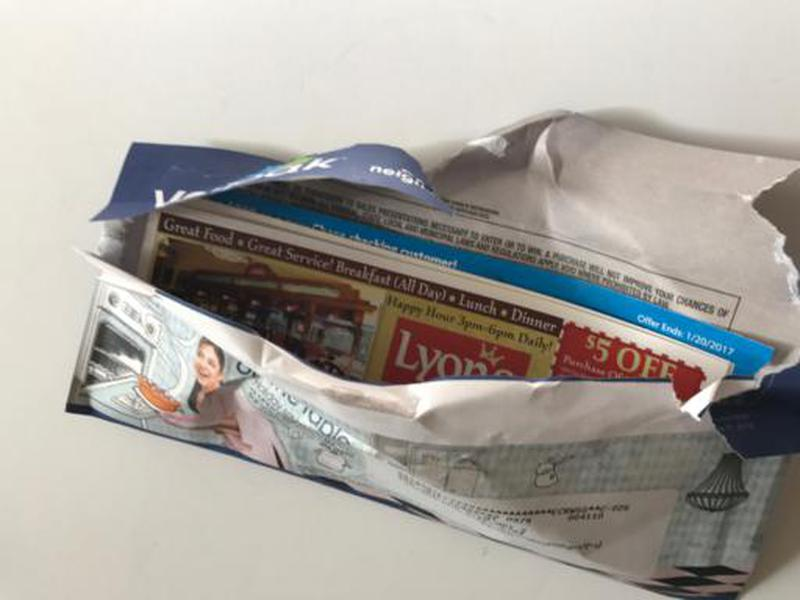paper: (59, 106, 800, 600)
